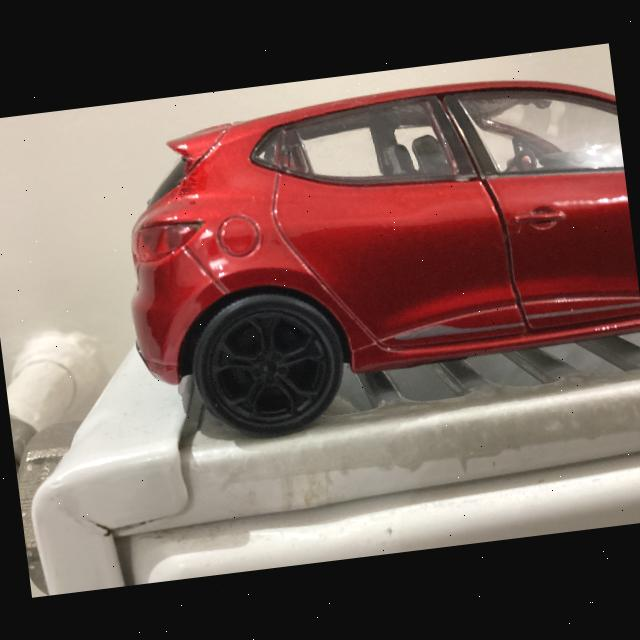Dogru_Jant: (203, 302, 334, 428)
